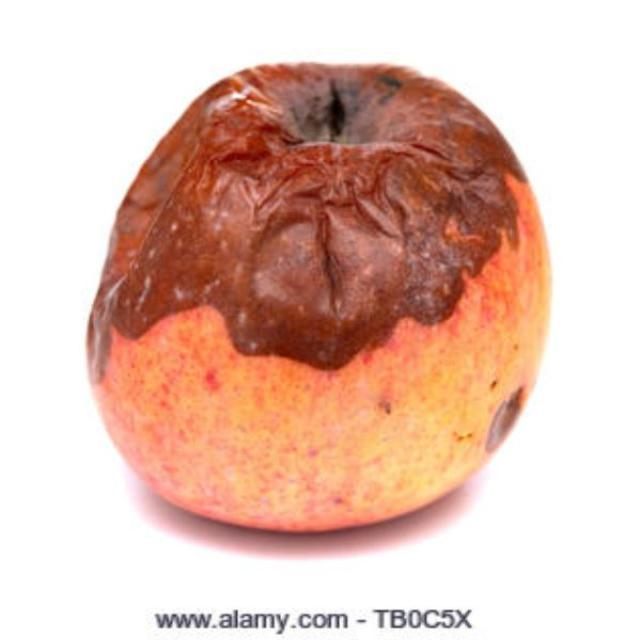Rotten Apple: (55, 46, 581, 554)
